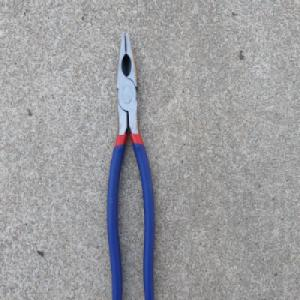Pliers: (105, 28, 156, 300)
